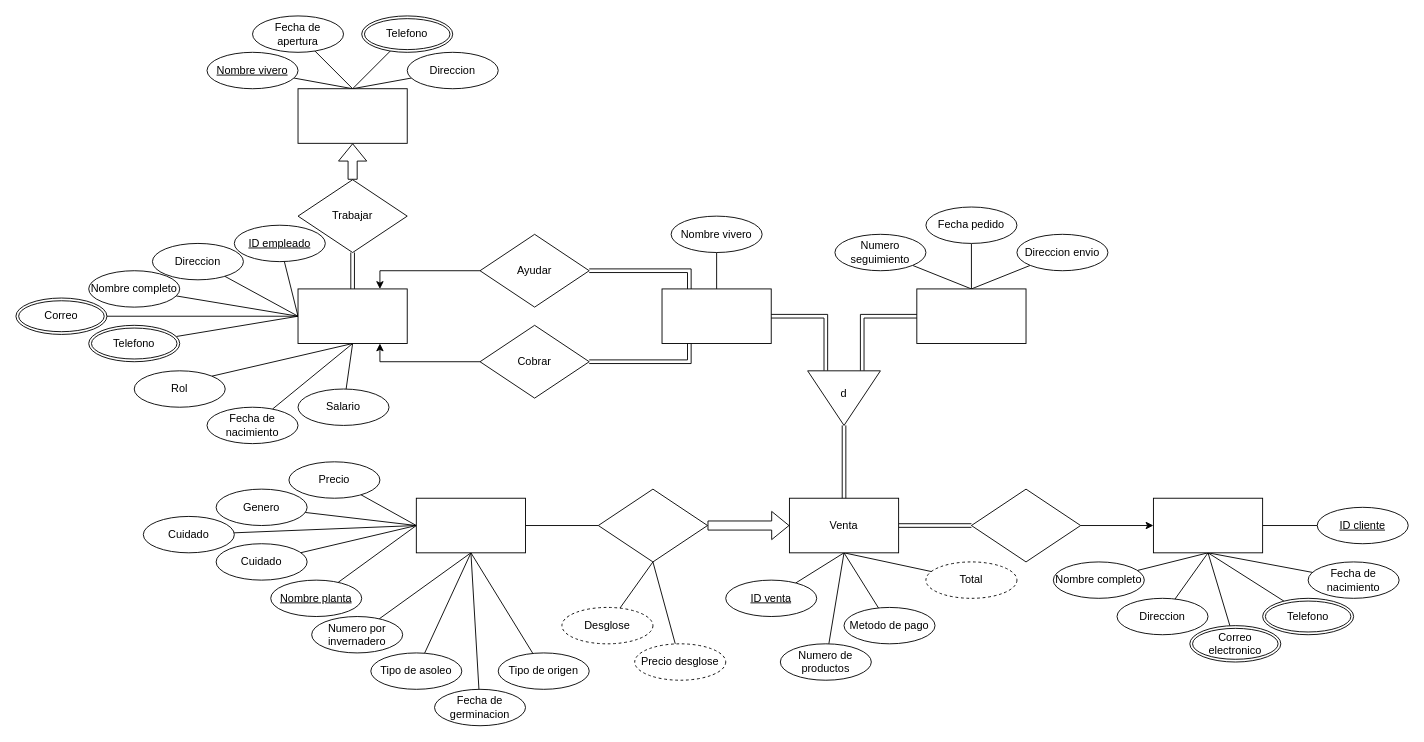
The diagram is 1424 pixels wide and 742 high, and some of its shapes have lost their labels. Here are the shapes that lost their labels. From the top down, the box of each, then its label:
(297, 88, 407, 143): Vivero
(297, 288, 407, 344): Empleado
(661, 288, 771, 344): VentaFisica
(916, 288, 1026, 344): VentaElectronica
(415, 497, 526, 553): Planta
(597, 488, 708, 562): Entregar
(971, 488, 1081, 562): Pagar
(1153, 497, 1263, 553): Cliente
